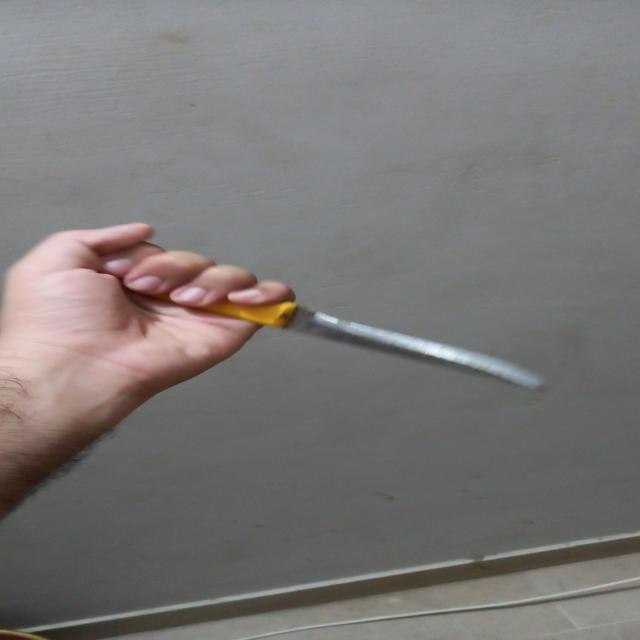Knife: (140, 292, 544, 391)
Person: (0, 222, 298, 520)
